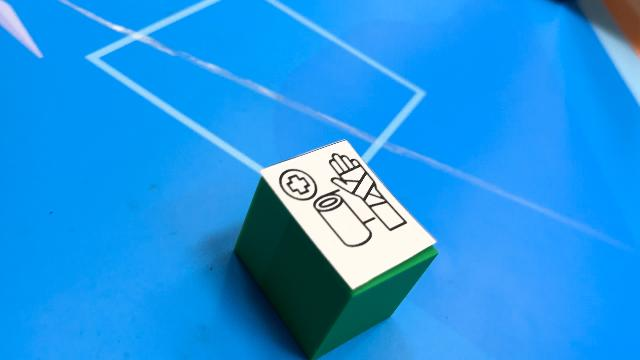bandage: (234, 138, 438, 358)
